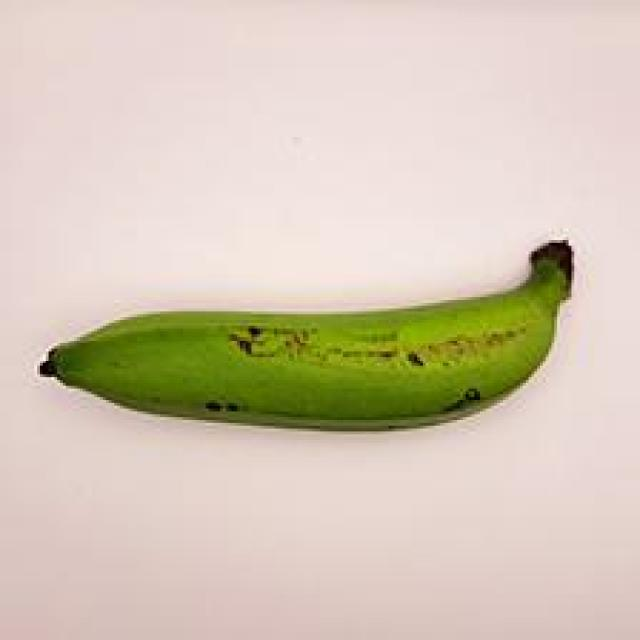Raw: (21, 202, 592, 474)
